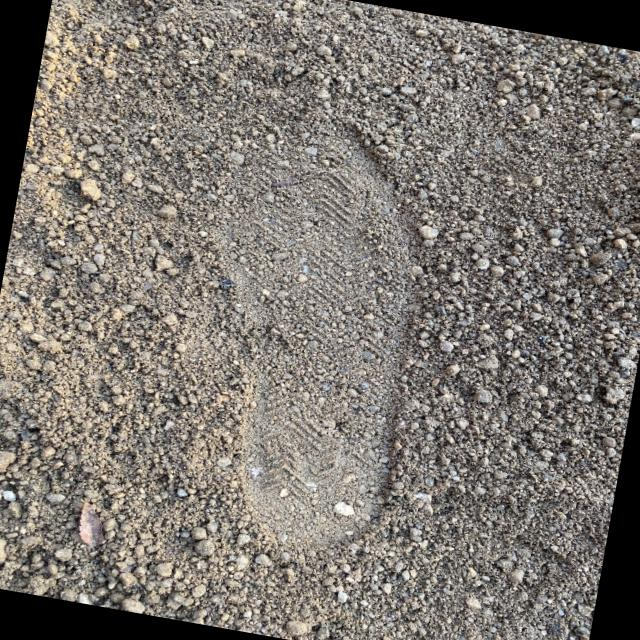human_foot_print: (160, 83, 470, 568)
